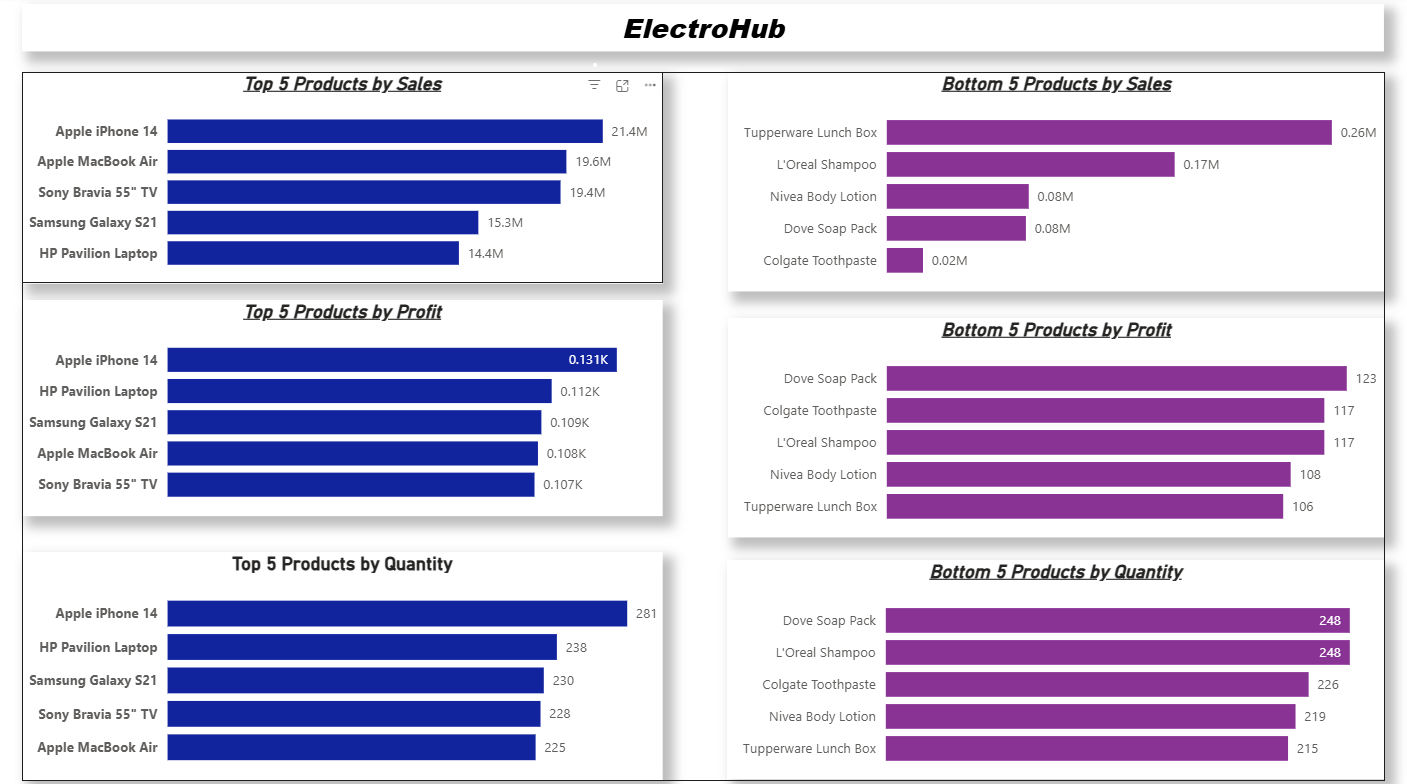

This screenshot's page, from the dashboard's own definition file:
{"tool":"powerbi","page":{"name":"Top/Bottom ","canvas":[1280,720],"ordinal":0},"visuals":[{"type":"barChart","title":"Top 5 Products by Sales","fields":{"Y":["Sum(Fact Table.Net Sales)"],"Category":["Dim Product.Product Name"]},"box":[22.6,69,580.7,191.6],"z":0,"group":"g1"},{"type":"barChart","title":"Top 5 Products by Quantity","fields":{"Category":["Dim Product.Product Name"],"Y":["Sum(Fact Table.Units Sold)"]},"box":[22.3,503.9,581.3,206.8],"z":1000,"group":"g1"},{"type":"barChart","title":"Top 5 Products by Profit ","fields":{"Category":["Dim Product.Product Name"],"Y":["CountNonNull(Fact Table.Profit)"]},"box":[22.6,276.2,580.7,195.5],"z":2000,"group":"g1"},{"type":"barChart","title":"Bottom 5 Products by Sales","fields":{"Y":["Sum(Fact Table.Net Sales)"],"Category":["Dim Product.Product Name"]},"box":[662.6,69,595.3,199.4],"z":3000,"group":"g1"},{"type":"barChart","title":"Bottom 5 Products by Profit","fields":{"Category":["Dim Product.Product Name"],"Y":["CountNonNull(Fact Table.Profit)"]},"box":[662.6,291.7,595.3,199.4],"z":4000,"group":"g1"},{"type":"barChart","title":"Bottom 5 Products by Quantity","fields":{"Category":["Dim Product.Product Name"],"Y":["Sum(Fact Table.Units Sold)"]},"box":[661.6,511.1,595.8,199.5],"z":5000,"group":"g1"},{"type":"group","id":"g1","title":"Group 1","box":[22.3,69,1236.4,642.5],"z":5001},{"type":"textbox","box":[22.3,7.1,1235.3,42.6],"z":5002}]}

Visuals, with their boxes in screenshot pixels (x1, y1, x2, y2), scaled from the page's 1280x720 canvas onto the 1407x784 screenshot:
"Top 5 Products by Sales" barChart: crop(25, 75, 663, 284)
"Top 5 Products by Quantity" barChart: crop(25, 549, 663, 774)
"Top 5 Products by Profit " barChart: crop(25, 301, 663, 514)
"Bottom 5 Products by Sales" barChart: crop(728, 75, 1383, 292)
"Bottom 5 Products by Profit" barChart: crop(728, 318, 1383, 535)
"Bottom 5 Products by Quantity" barChart: crop(727, 557, 1382, 774)
"Group 1" group: crop(25, 75, 1384, 775)
textbox: crop(25, 8, 1382, 54)
